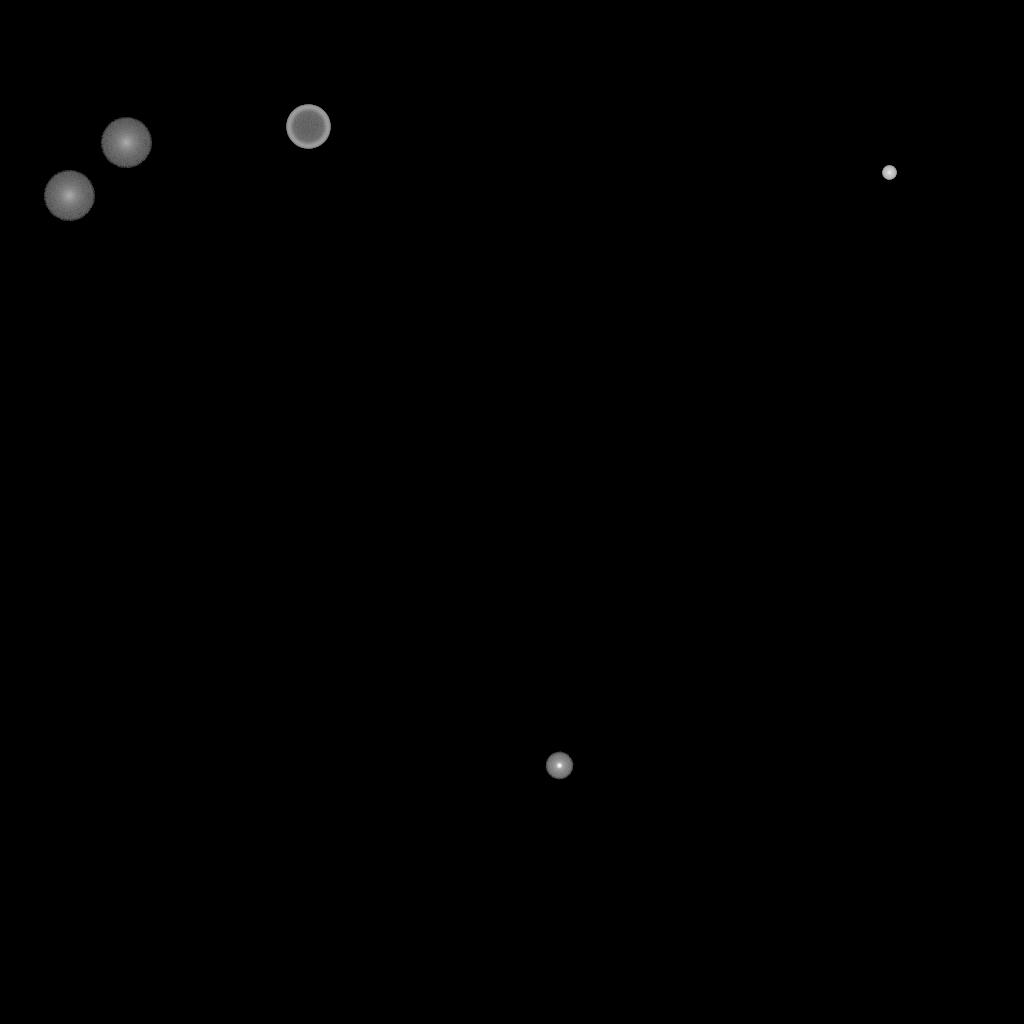depth:-10: (545, 752, 573, 780)
depth:-30: (882, 166, 896, 180)
depth:-70: (286, 105, 330, 149)
depth:20: (100, 118, 152, 168), (43, 171, 95, 221)
